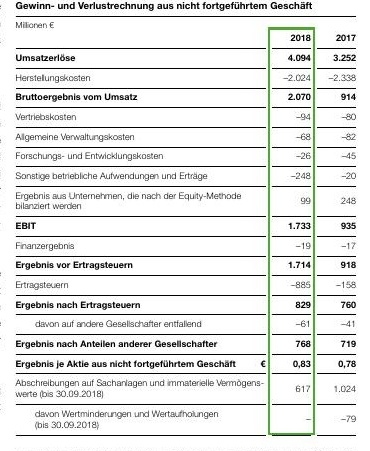table: (0, 0, 370, 451)
